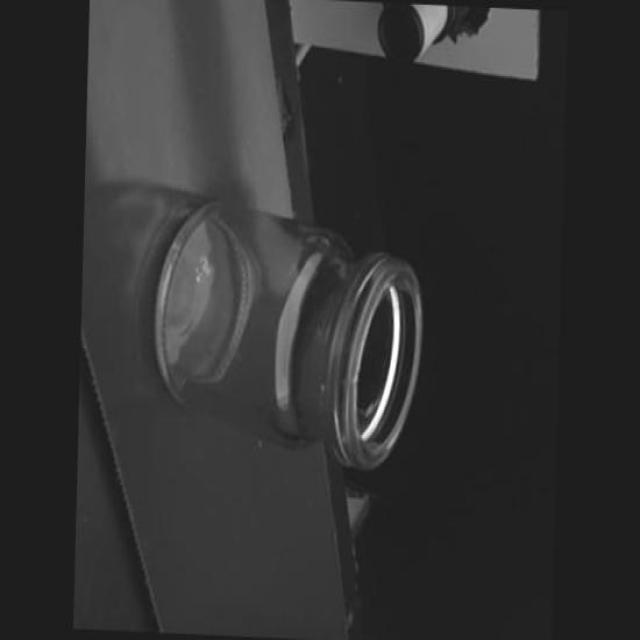defect: (344, 362, 362, 399), (317, 378, 329, 396)
glass: (136, 182, 438, 486)
